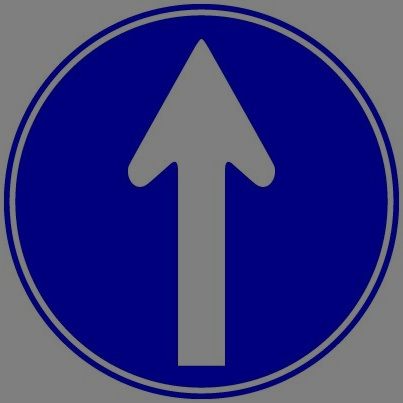Direction_sign: (2, 1, 400, 399)
